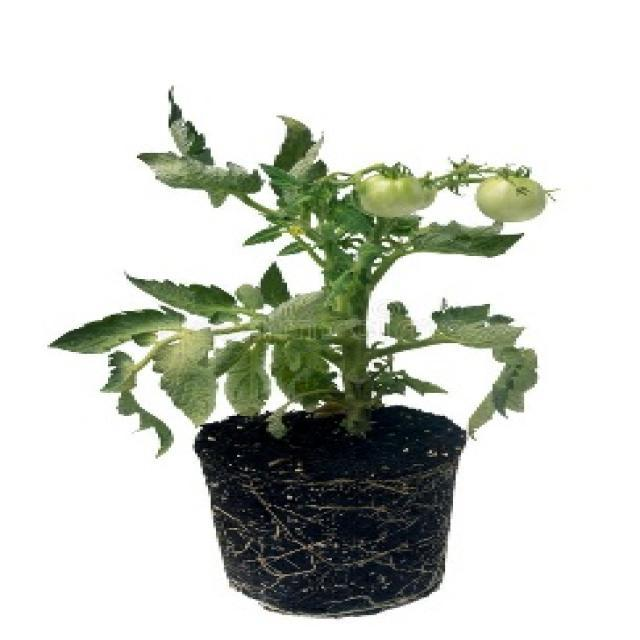plant: (53, 90, 548, 451)
